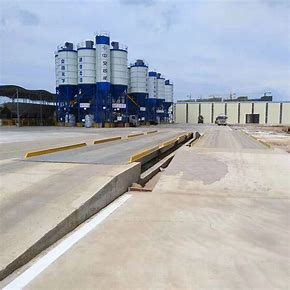Industrial Scale: (24, 129, 200, 166)
